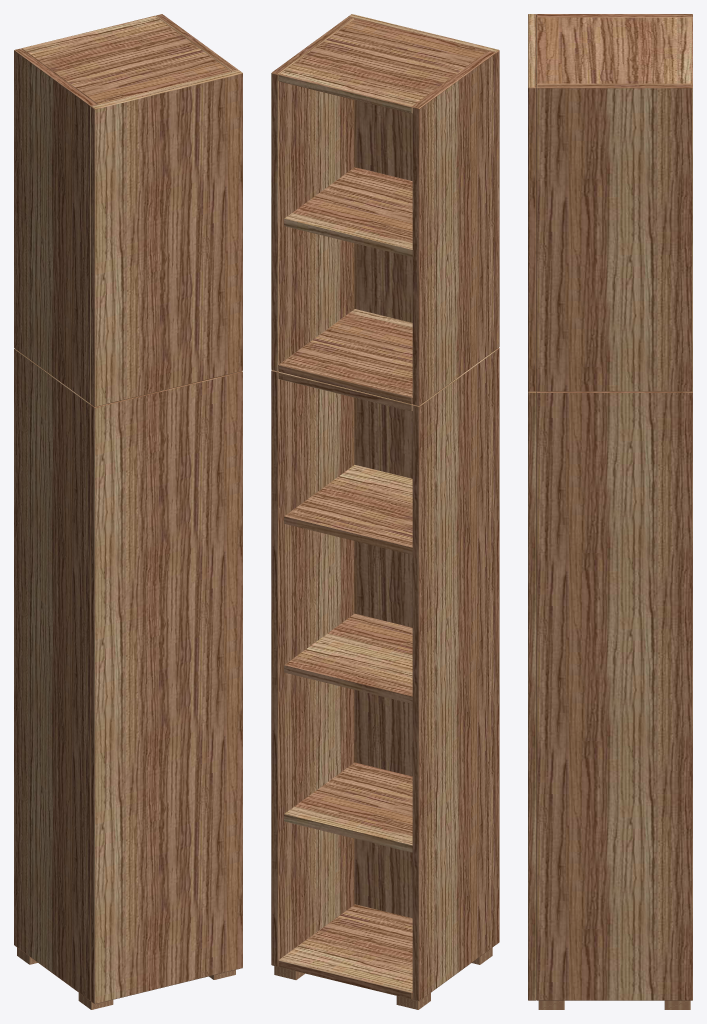
File: shelf_4OH_attach_2OH_finala.fbx
3 views of the same model, side by side, from view 1: azimuth 30°, elevation 25°; view 2: azimuth 150°, elevation 25°; view 3: azimuth 270°, elevation 25° (orthographic). The views are drawn at different scales.
Parts seen in each view (by area): view 1: drewno_mesh, metal_mesh; view 2: drewno_mesh, metal_mesh; view 3: drewno_mesh, metal_mesh.
Boxes of the visible parts, bbox=[...] form: drewno_mesh: bbox=[14, 14, 242, 1003]; metal_mesh: bbox=[17, 947, 235, 1009]; drewno_mesh: bbox=[271, 14, 499, 1001]; metal_mesh: bbox=[274, 948, 492, 1009]; drewno_mesh: bbox=[528, 14, 692, 1000]; metal_mesh: bbox=[538, 1000, 690, 1009].
Size of the model in its own units: 40 by 37.7 by 233.
